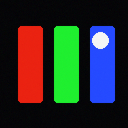2 circle: (92, 32, 108, 48)
